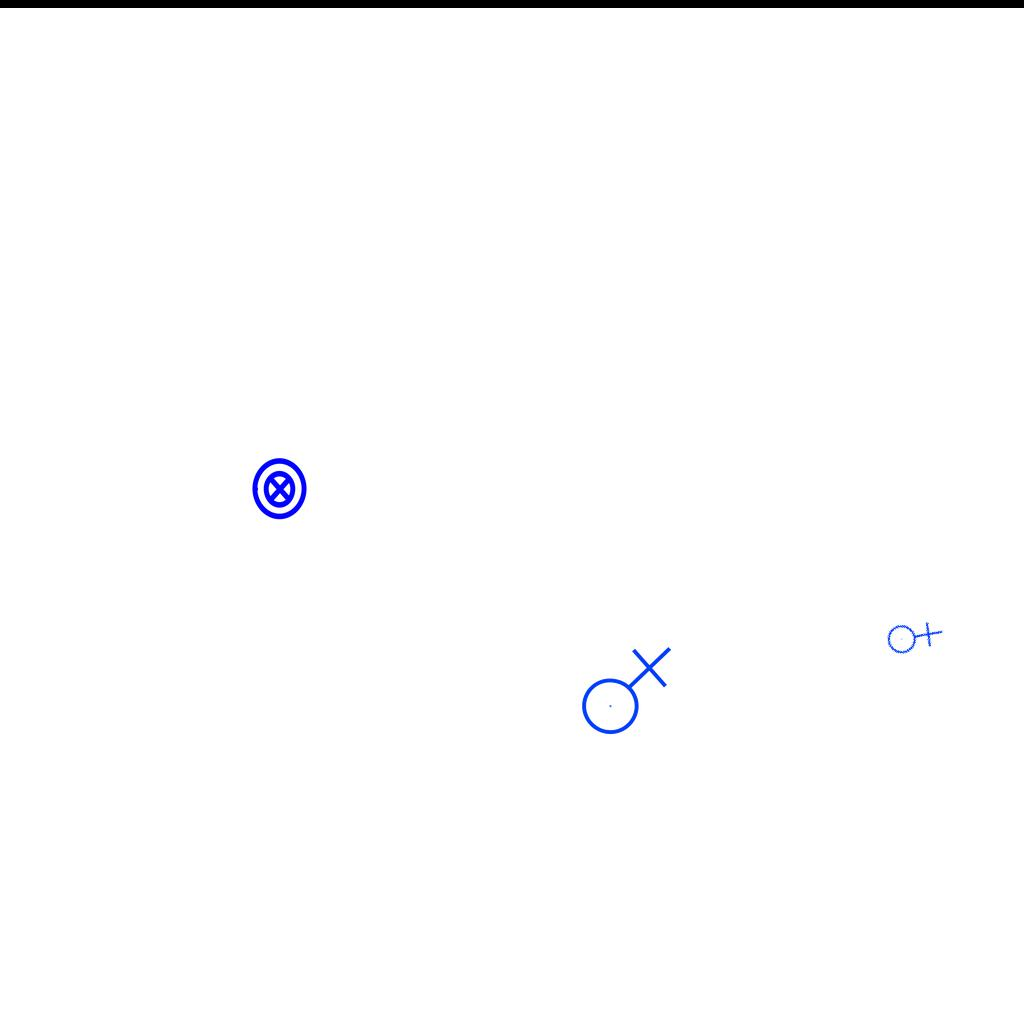Elektroanschluss_allgemein_230V_Geraeteanschlussdose_230V: (573, 642, 672, 736), (878, 602, 945, 669)
Taster_beleuchtet: (247, 456, 313, 522)
